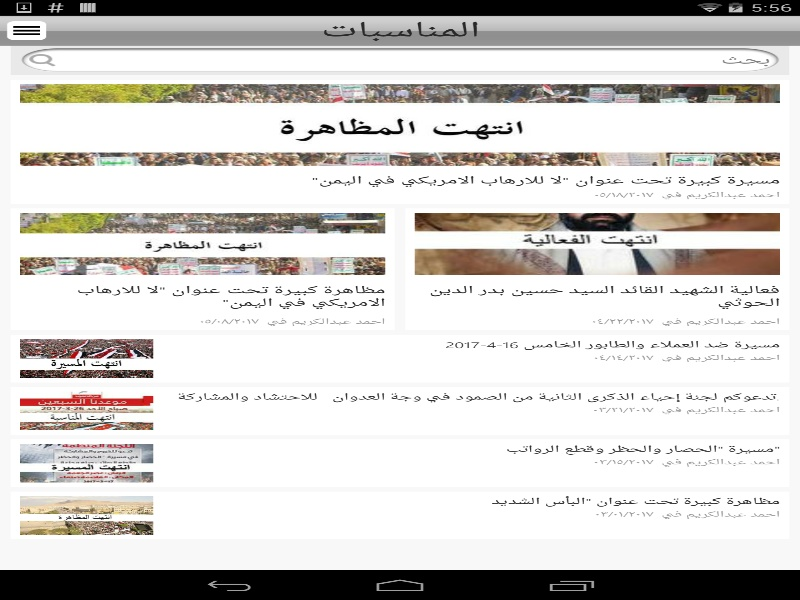Input: (20, 48, 780, 72)
